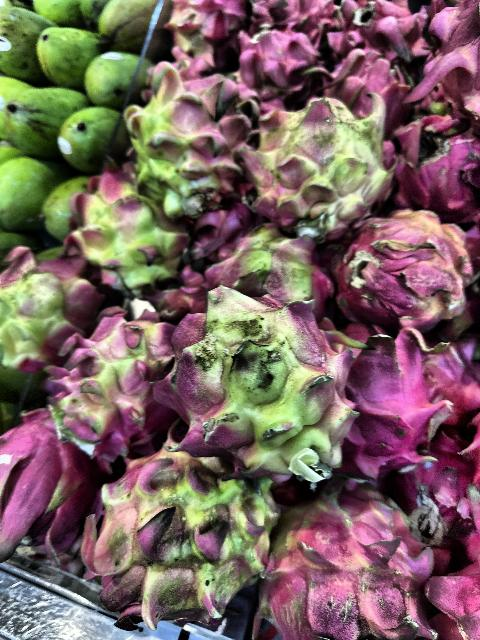buah-naga-belum-matang: (169, 288, 351, 486), (87, 447, 263, 628), (248, 94, 388, 224), (134, 62, 252, 212), (56, 311, 179, 453), (349, 206, 470, 324), (68, 169, 184, 289), (0, 242, 98, 368), (217, 223, 336, 325)
buah-naga-matang: (264, 480, 430, 640), (332, 314, 446, 476), (0, 400, 88, 568), (390, 105, 480, 218), (424, 0, 480, 126), (314, 42, 404, 118), (332, 0, 432, 66), (237, 18, 315, 98), (166, 0, 250, 70), (246, 0, 344, 38)
